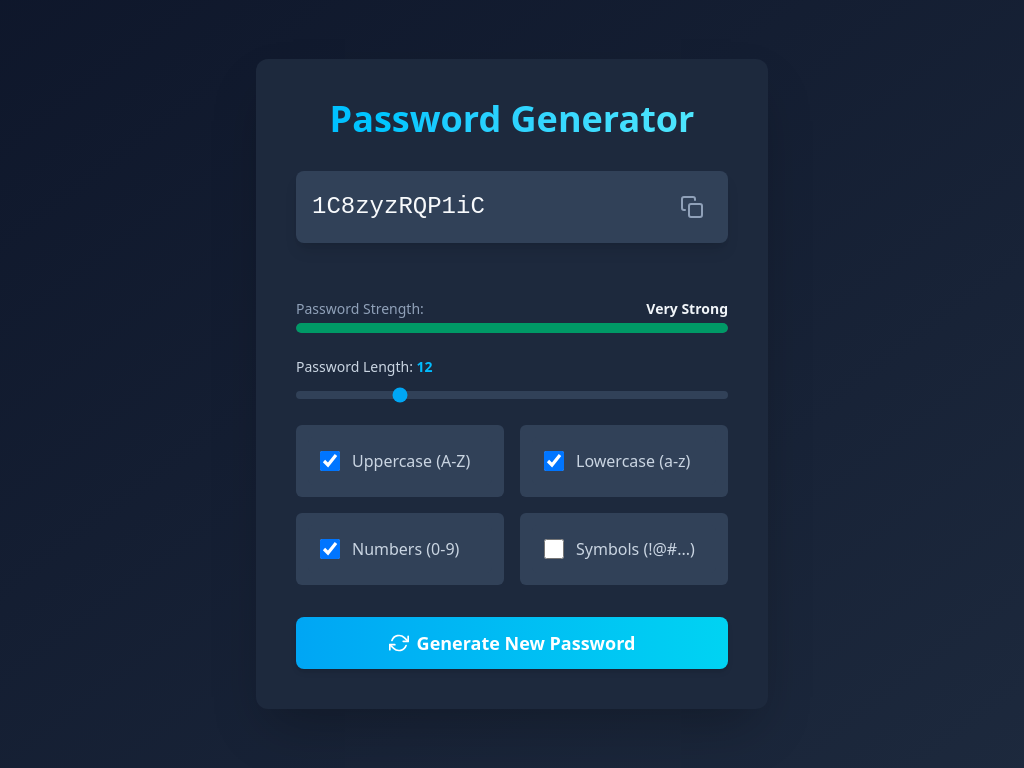
it: App Component - Password Generator › should copy password to clipboard and show "Copied!" message
Click the button titled "Copy Password".
click(692, 207)  # box [672,187,712,227]
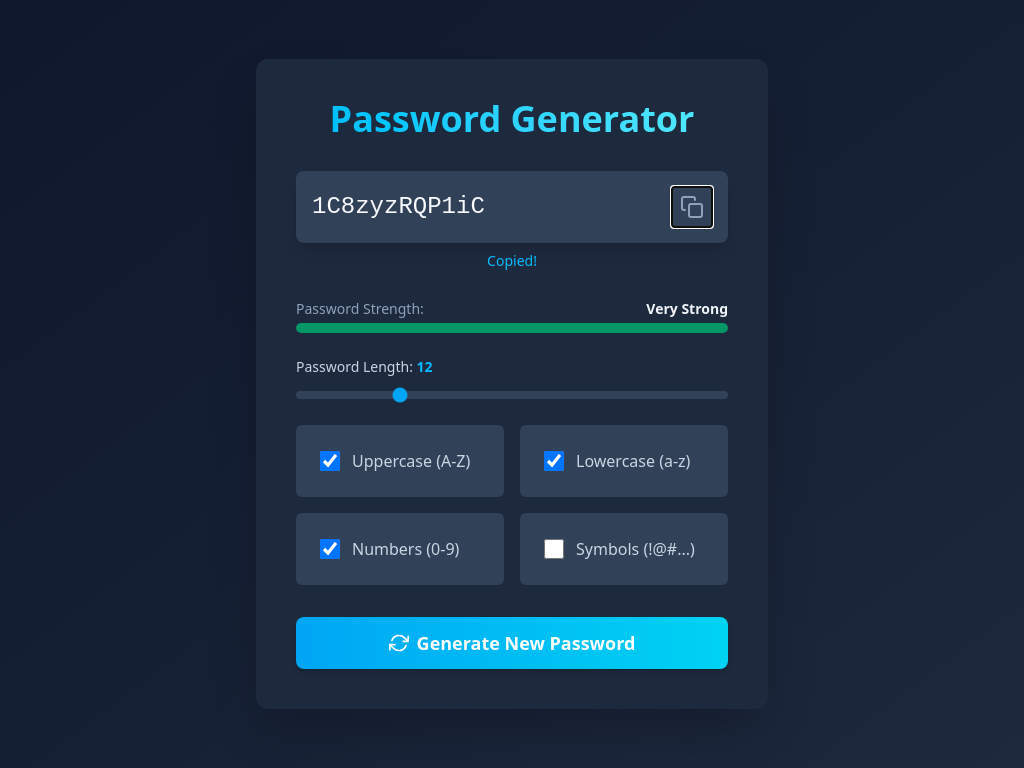
expect the text "Copied!" is shown: met, box [487,251,537,270]
